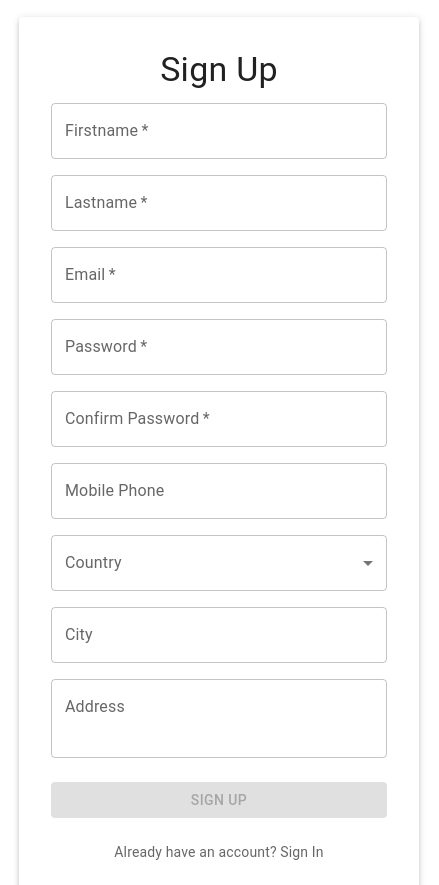
Test case: RegisterForm › should show firstname error when firstname is too short
Type "A" into the field labelled "Firstname *" at [219, 131], box [51,103,387,159]
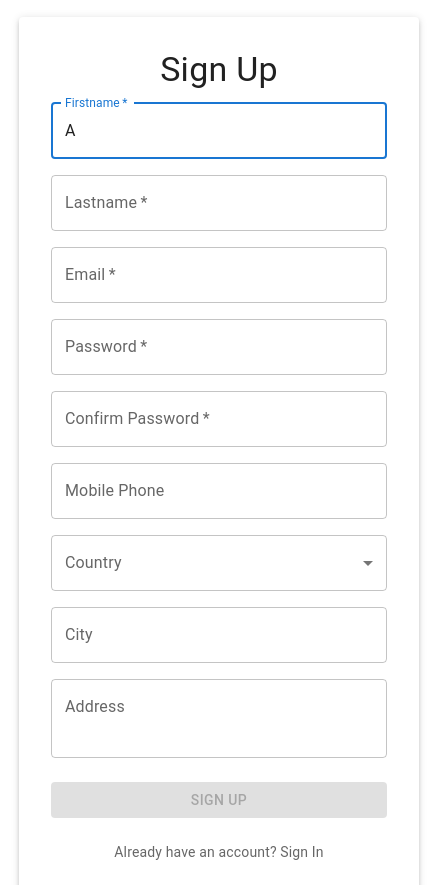
Press Tab
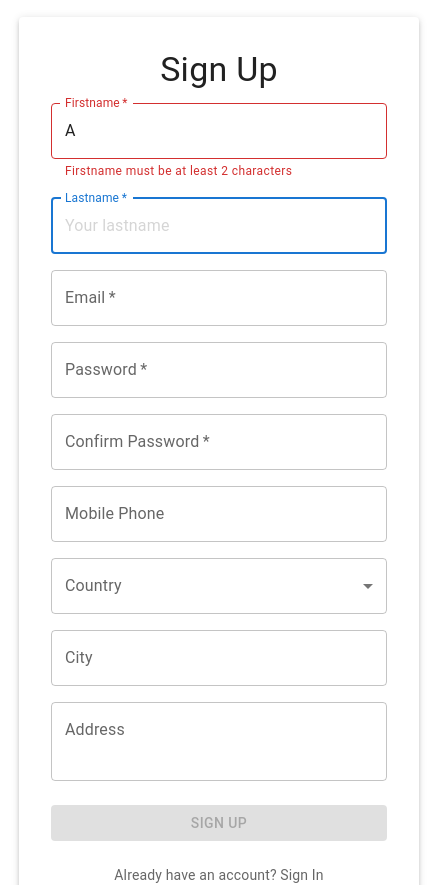
Check: the text "Firstname must be at least 2 characters" is shown, box [65,164,292,178]
